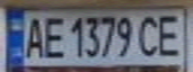1: (63, 14, 84, 58)
3: (81, 12, 103, 59)
7: (97, 12, 118, 57)
9: (115, 12, 136, 57)
A: (21, 13, 48, 60)
C: (136, 11, 163, 57)
E: (154, 11, 184, 57), (39, 12, 66, 60)
